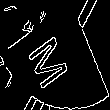M_NE: (30, 22, 80, 88)
